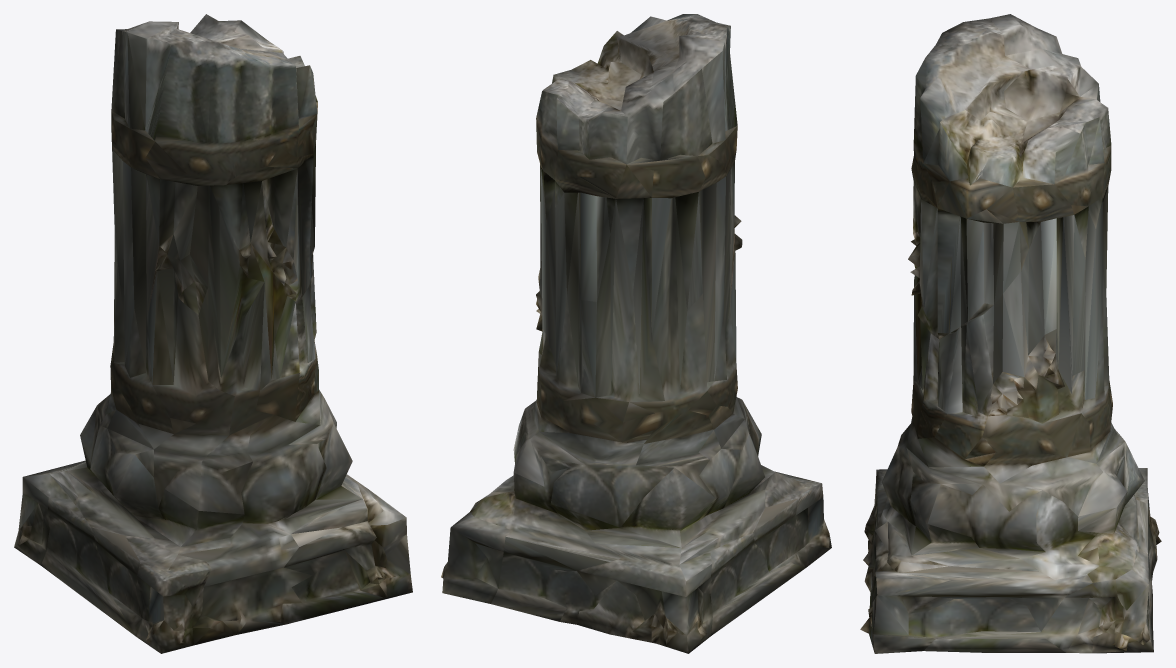
The model's file is pillar_base.glb.
The picture shows the model from 3 angles, left to right: view 1: azimuth 30°, elevation 25°; view 2: azimuth 150°, elevation 25°; view 3: azimuth 270°, elevation 25°; orthographic projection. The views are drawn at different scales.
Parts seen in each view (by area): view 1: tripo_node_90b1bef0-269e-46ae-b1db-df39216d0a1a; view 2: tripo_node_90b1bef0-269e-46ae-b1db-df39216d0a1a; view 3: tripo_node_90b1bef0-269e-46ae-b1db-df39216d0a1a.
Boxes of the visible parts, <box> form: tripo_node_90b1bef0-269e-46ae-b1db-df39216d0a1a: <box>14,14,412,653</box>; tripo_node_90b1bef0-269e-46ae-b1db-df39216d0a1a: <box>441,14,831,653</box>; tripo_node_90b1bef0-269e-46ae-b1db-df39216d0a1a: <box>860,14,1161,653</box>.
Size of the model in its own units: 0.49 by 0.9729 by 0.4923.
Materials: 1 (1 with a texture image).
